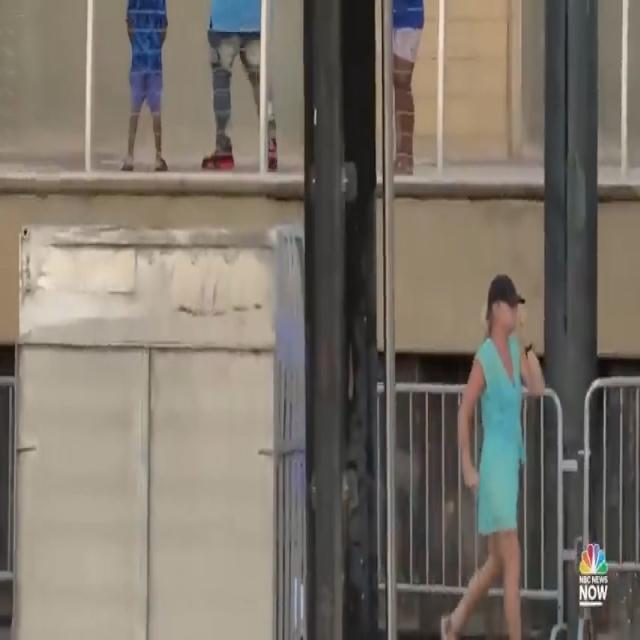non-fight: (434, 265, 548, 640)
